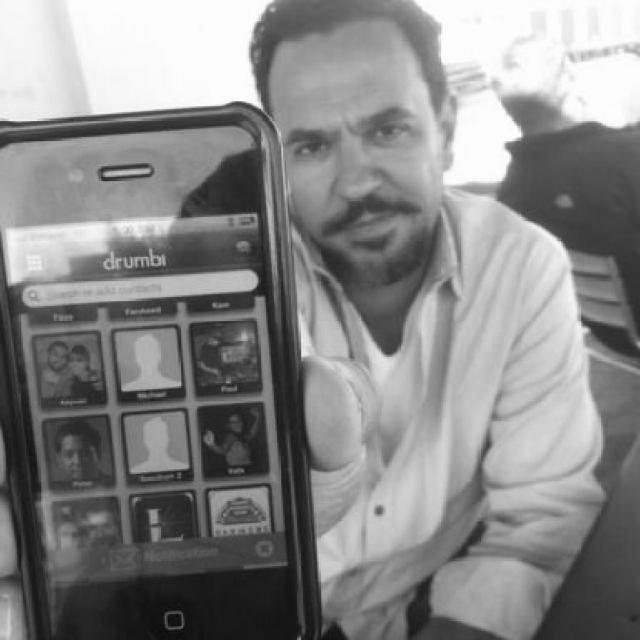fake: (9, 77, 331, 640)
